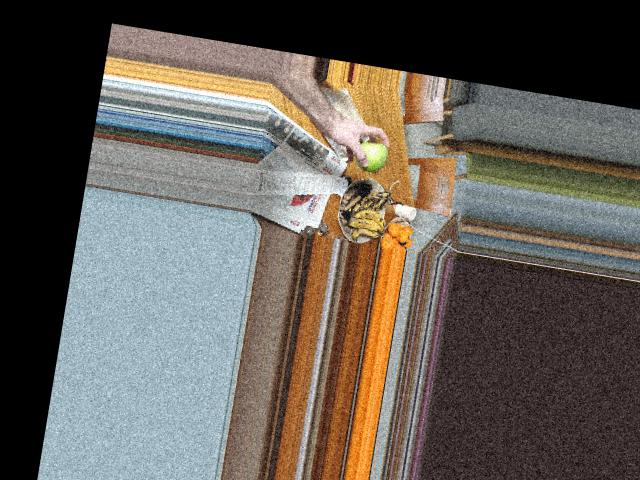apple: (350, 138, 391, 173)
